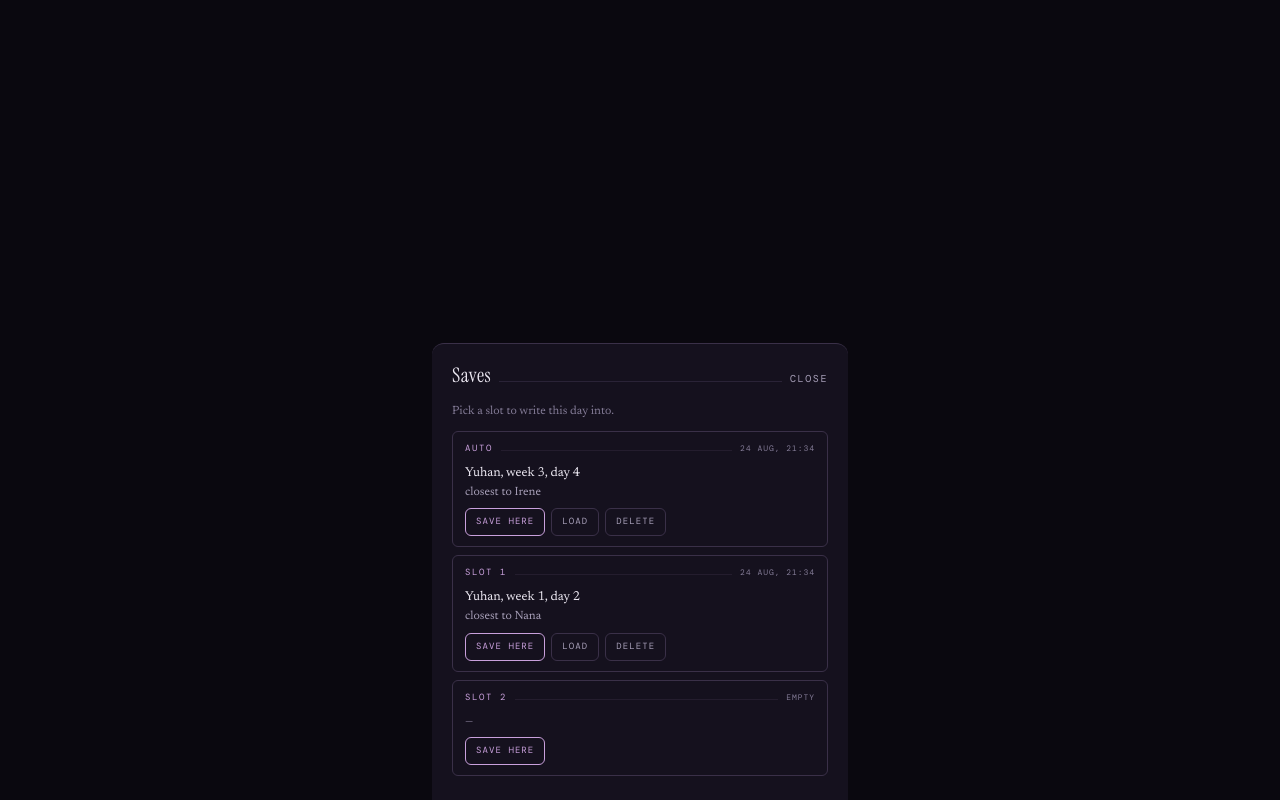
when storage refuses › says so rather than failing silently
This screenshot has width=1280, height=800.
Click the button "Save here" below "Slot 2" at point(505, 751), box [465,737,545,765]
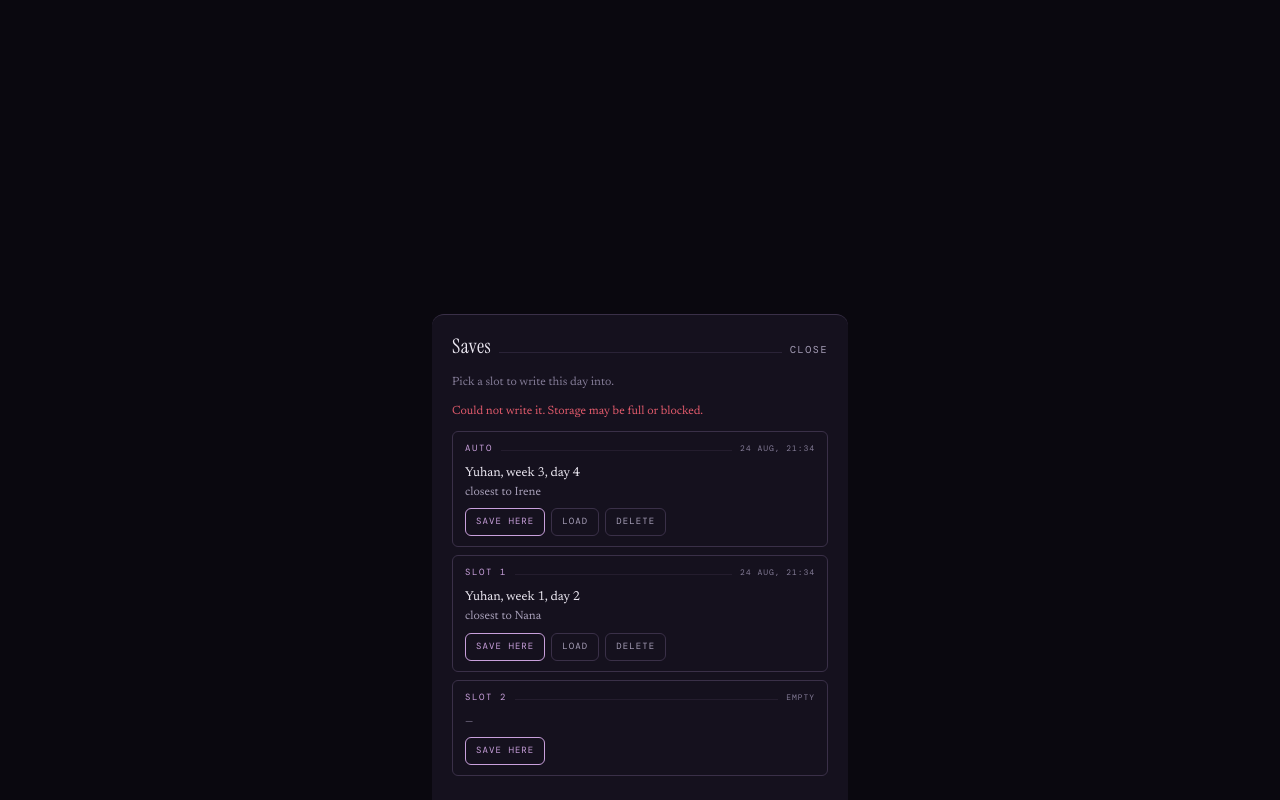
Expected: the message reads "Could not write it. Storage may be full or blocked.", [452,405,703,417]
